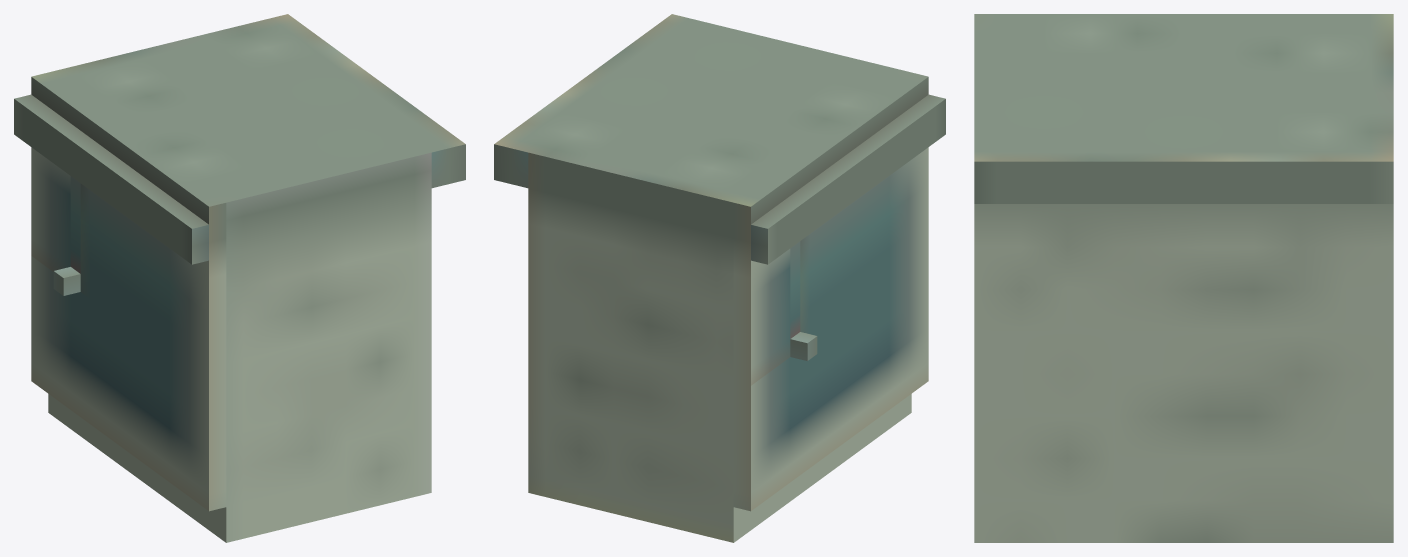
File: CountertopGreen_01.obj
3 views of the same model, side by side, from view 1: azimuth 30°, elevation 25°; view 2: azimuth 150°, elevation 25°; view 3: azimuth 270°, elevation 25° (orthographic). The views are drawn at different scales.
Parts seen in each view (by area): view 1: CountertopGreen_01; view 2: CountertopGreen_01; view 3: CountertopGreen_01.
Part boxes in pixels (x1,y1,x2,y2): CountertopGreen_01: (14, 14, 465, 542); CountertopGreen_01: (494, 14, 945, 542); CountertopGreen_01: (974, 14, 1393, 542).
Bounding box in the file's own units: 0.8 × 0.95 × 0.9.
